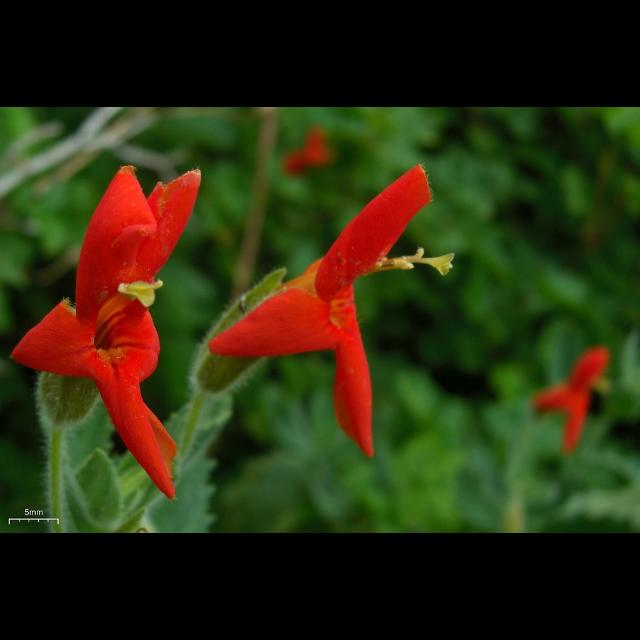Flower: (203, 164, 464, 456), (8, 175, 196, 489), (531, 346, 613, 458), (282, 126, 334, 172)
